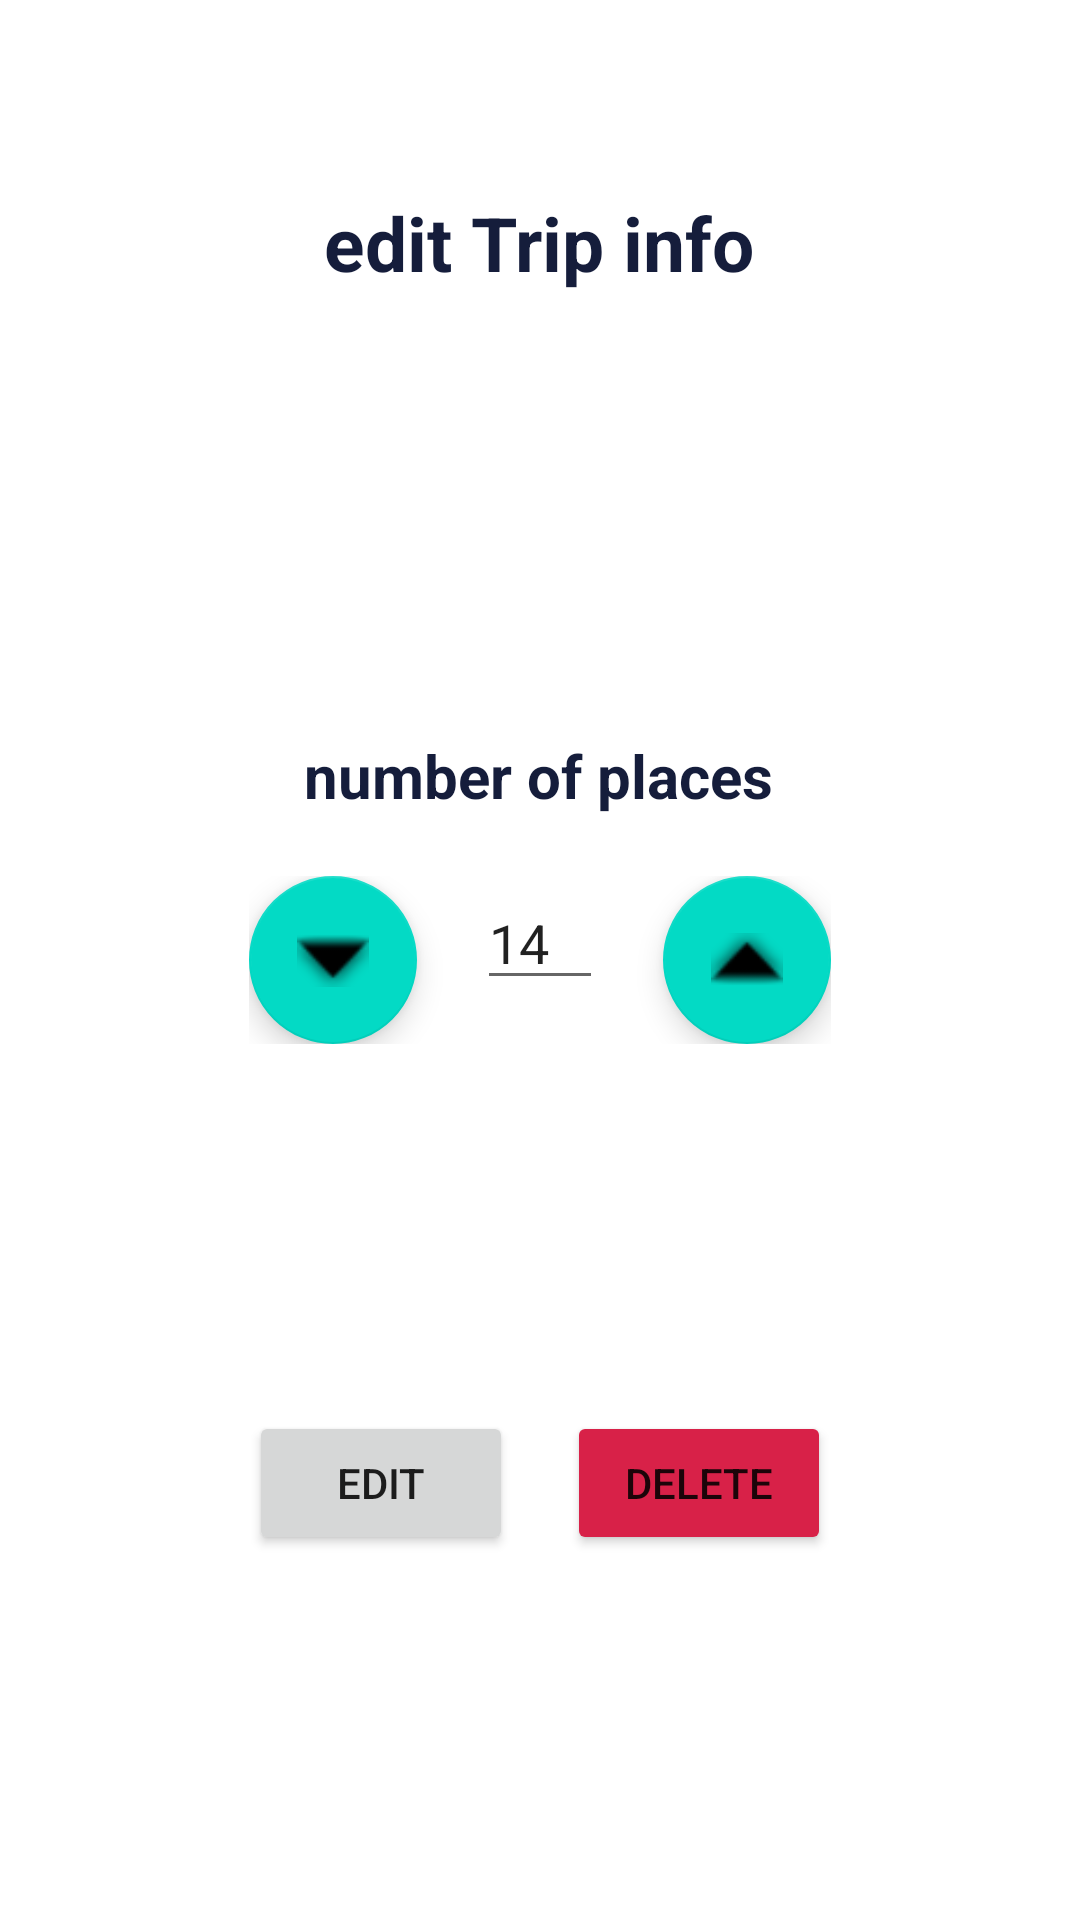

Icons on this 1080 × 1920 Android screen, each with the point to tap as [x,y]:
arrow down float: [333,960]
arrow up float: [747,960]
